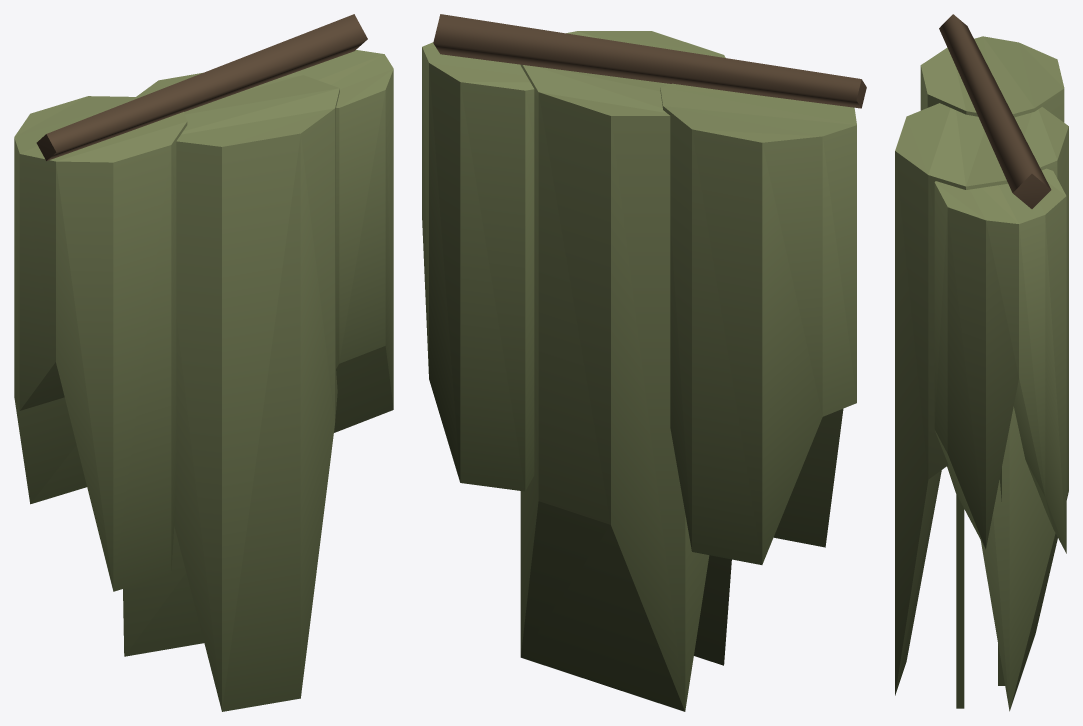
The model's file is spanish-moss-hang.glb.
3 renders of one model, left to right at view 1: azimuth 30°, elevation 25°; view 2: azimuth 150°, elevation 25°; view 3: azimuth 270°, elevation 25°, orthographic. The views are drawn at different scales.
Parts seen in each view (by area): view 1: spanish_moss_hang; view 2: spanish_moss_hang; view 3: spanish_moss_hang.
Boxes of the visible parts, x1,y1,x2,y2 form: spanish_moss_hang: (14, 14, 393, 711); spanish_moss_hang: (422, 14, 866, 711); spanish_moss_hang: (895, 14, 1068, 711).
Bounding box in the file's own units: 1.62 × 2.43 × 0.6573.
